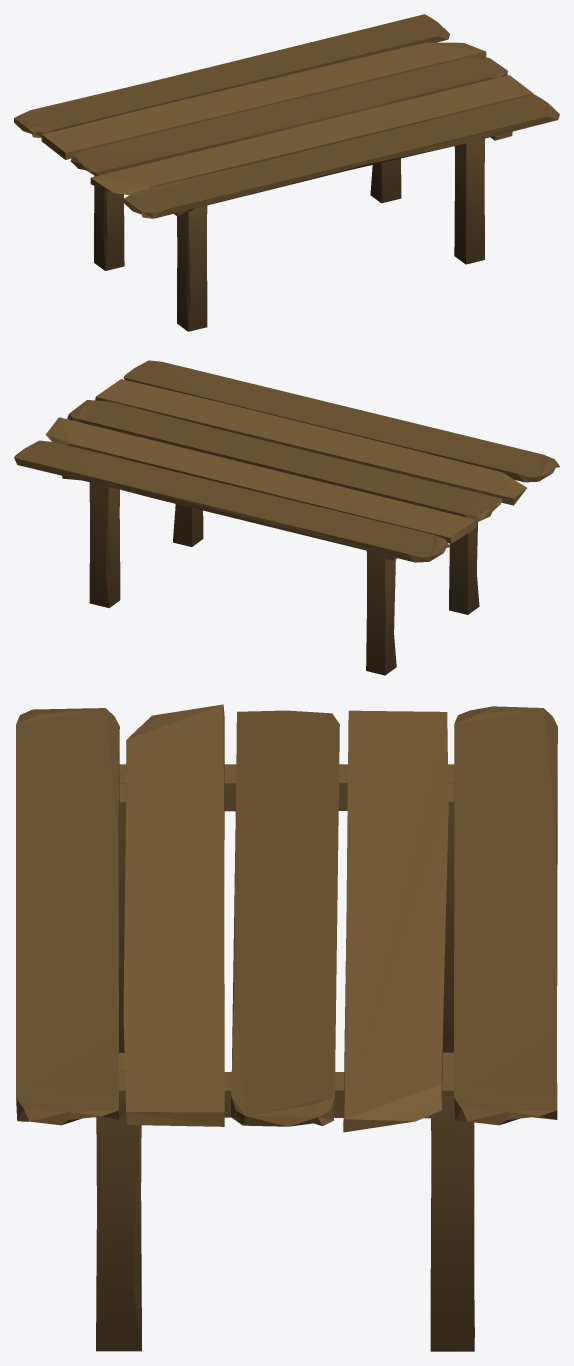
Rendered from table.fbx.
3 views of the same model, one above another, from view 1: azimuth 30°, elevation 25°; view 2: azimuth 150°, elevation 25°; view 3: azimuth 270°, elevation 25° (orthographic). The views are drawn at different scales.
Parts seen in each view (by area): view 1: Table_01.001; view 2: Table_01.001; view 3: Table_01.001.
Boxes of the visible parts, x1,y1,x2,y2 form: Table_01.001: (14, 14, 559, 331); Table_01.001: (14, 360, 559, 675); Table_01.001: (16, 704, 557, 1351).
Bounding box in the file's own units: 246 × 81.9 × 136.
